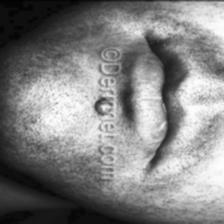Unclassified: (85, 96, 99, 116)
